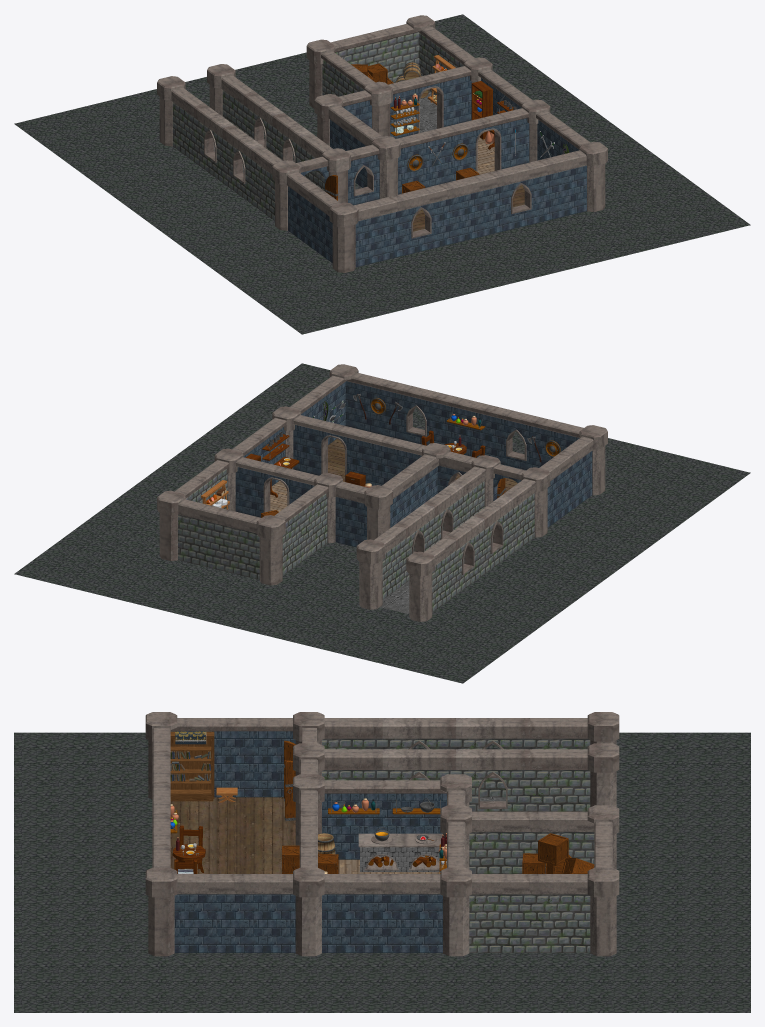
The picture shows the model from 3 angles, top to bottom: view 1: azimuth 30°, elevation 25°; view 2: azimuth 150°, elevation 25°; view 3: azimuth 270°, elevation 25°; orthographic projection. The views are drawn at different scales.
Parts seen in each view (by area): view 1: Wal - Brick 1.018_330, Wal - Brick 1.58_329, Wal - Brick 1.012_303, Wal - Brick 2 Windows.002_290, Wal - Brick 2 Windows.007_308, Wal - Brick 1.013_304, Wal - Brick 1.021_327, Wal - Brick 2 Windows.005_300, Wal - Brick 1.009_321, Wal - Brick 2 Windows_287, Wal - Brick 1.55_328, Pillar - Concrite 1.002_307 (+75 smaller); view 2: Wal - Brick 1.018_330, Wal - Brick 1.58_329, Wal - Brick 2 Windows.007_308, Wal - Brick 1.009_321, Wal - Brick 1.010_322, Wal - Brick 2 Windows.002_290, Wal - Brick 1.021_327, Wal - Brick 1.012_303, Wal - Brick 2 Windows_287, Wal - Brick 2 Windows.005_300, Wal - Brick 1.011_323, Pillar - Concrite_283 (+76 smaller); view 3: Wal - Brick 1.003_293, Wal - Brick 1.004_294, Wal - Brick 1.001_289, Wal - Brick 1.002_292, Wal - Brick 1.5_288, Wal - Brick 1.006_318, Wal - Brick 1.014_309, Wal - Brick 2.003_297, Wal - Brick 1.008_320, Wal - Brick 2 Windows.004_299, Wal - Brick 1.017_315, Wal - Brick 1.016_314 (+85 smaller).
Boxes of the visible parts, bbox=[...] form: Wal - Brick 1.018_330: bbox=[433, 108, 529, 184]; Wal - Brick 1.58_329: bbox=[388, 66, 471, 138]; Wal - Brick 1.012_303: bbox=[441, 172, 497, 245]; Wal - Brick 2 Windows.002_290: bbox=[491, 160, 547, 232]; Wal - Brick 2 Windows.007_308: bbox=[391, 184, 447, 257]; Wal - Brick 1.013_304: bbox=[354, 196, 397, 267]; Wal - Brick 1.021_327: bbox=[541, 150, 586, 220]; Wal - Brick 2 Windows.005_300: bbox=[194, 104, 233, 184]; Wal - Brick 1.009_321: bbox=[368, 24, 419, 82]; Wal - Brick 2 Windows_287: bbox=[222, 125, 262, 205]; Wal - Brick 1.55_328: bbox=[396, 130, 439, 194]; Pillar - Concrite 1.002_307: bbox=[329, 202, 358, 272]; Wal - Brick 1.018_330: bbox=[293, 415, 388, 485]; Wal - Brick 1.58_329: bbox=[235, 457, 318, 517]; Wal - Brick 2 Windows.007_308: bbox=[490, 406, 546, 470]; Wal - Brick 1.009_321: bbox=[178, 499, 223, 569]; Wal - Brick 1.010_322: bbox=[217, 509, 261, 579]; Wal - Brick 2 Windows.002_290: bbox=[390, 382, 446, 445]; Wal - Brick 1.021_327: bbox=[345, 373, 396, 437]; Wal - Brick 1.012_303: bbox=[440, 394, 496, 457]; Wal - Brick 2 Windows_287: bbox=[473, 495, 513, 575]; Wal - Brick 2 Windows.005_300: bbox=[444, 516, 484, 596]; Wal - Brick 1.011_323: bbox=[335, 481, 368, 547]; Pillar - Concrite_283: bbox=[406, 551, 435, 621]; Wal - Brick 1.003_293: bbox=[322, 874, 382, 952]; Wal - Brick 1.004_294: bbox=[382, 874, 442, 952]; Wal - Brick 1.001_289: bbox=[469, 874, 529, 952]; Wal - Brick 1.002_292: bbox=[235, 874, 295, 952]; Wal - Brick 1.5_288: bbox=[174, 874, 234, 952]; Wal - Brick 1.006_318: bbox=[530, 874, 590, 952]; Wal - Brick 1.014_309: bbox=[235, 718, 295, 797]; Wal - Brick 2.003_297: bbox=[530, 749, 590, 811]; Wal - Brick 1.008_320: bbox=[469, 811, 529, 873]; Wal - Brick 2 Windows.004_299: bbox=[456, 749, 529, 811]; Wal - Brick 1.017_315: bbox=[322, 780, 382, 859]; Wal - Brick 1.016_314: bbox=[382, 780, 446, 856].
Size of the model in its own units: 16.28 by 2.1 by 18.09.
Materials: 34 (34 with a texture image).
